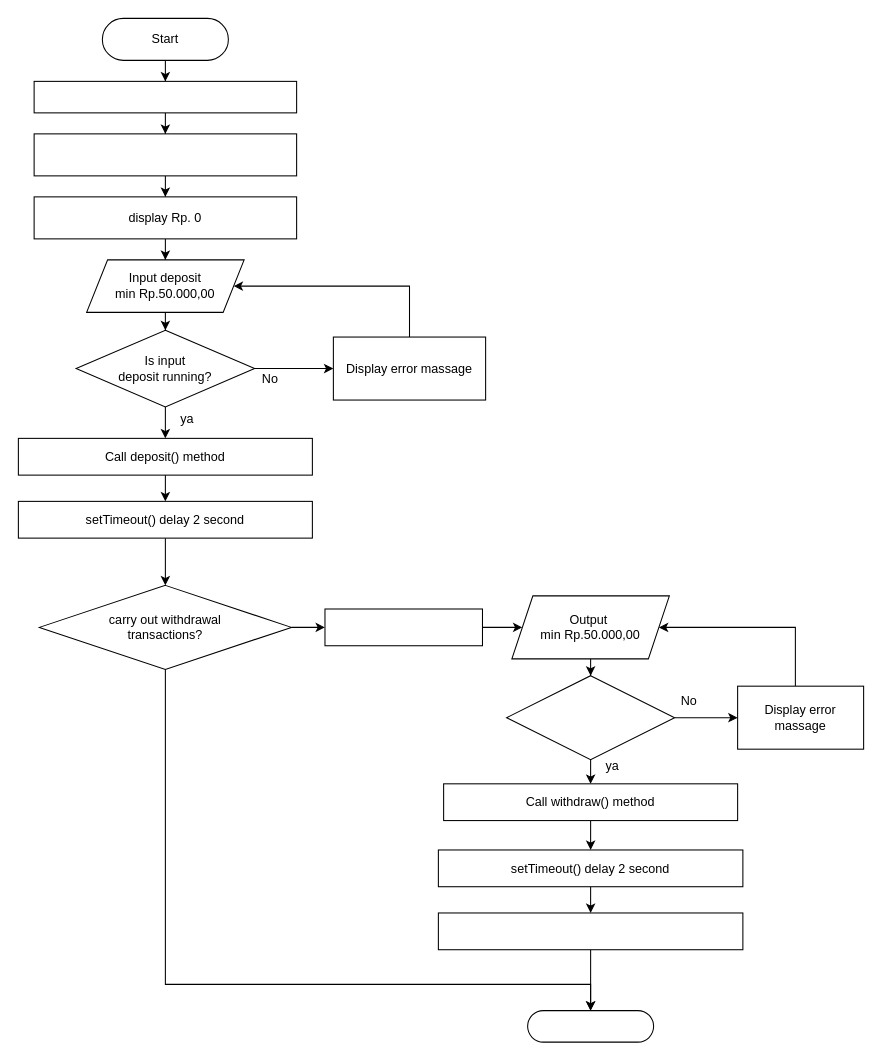
This 882x1061 diagram has some shape labels left out. Here are the shapes that lost their labels. From the top down, the centre of each, then its label:
At point 165,96: "class objeck BankAccount".
At point 165,154: "Set deposit awal ke Rp.0 i = 0".
At point 403,627: "Display CheckingAccount".
At point 590,717: "Is output deposit running?".
At point 590,931: "Update CheckingAccount Display".
At point 590,1026: "Finish".
